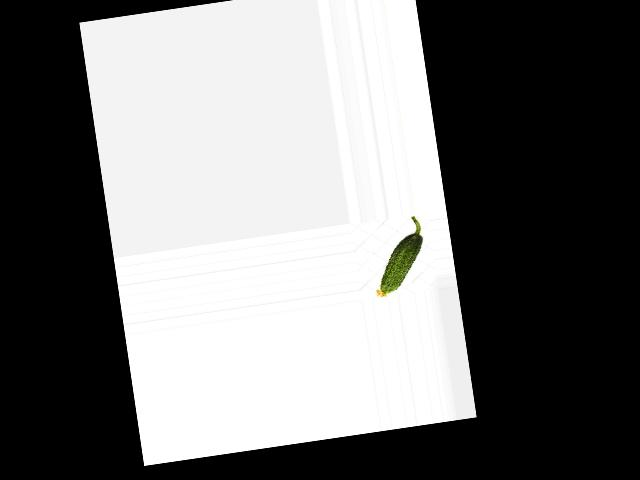cucumber: (365, 216, 430, 298)
